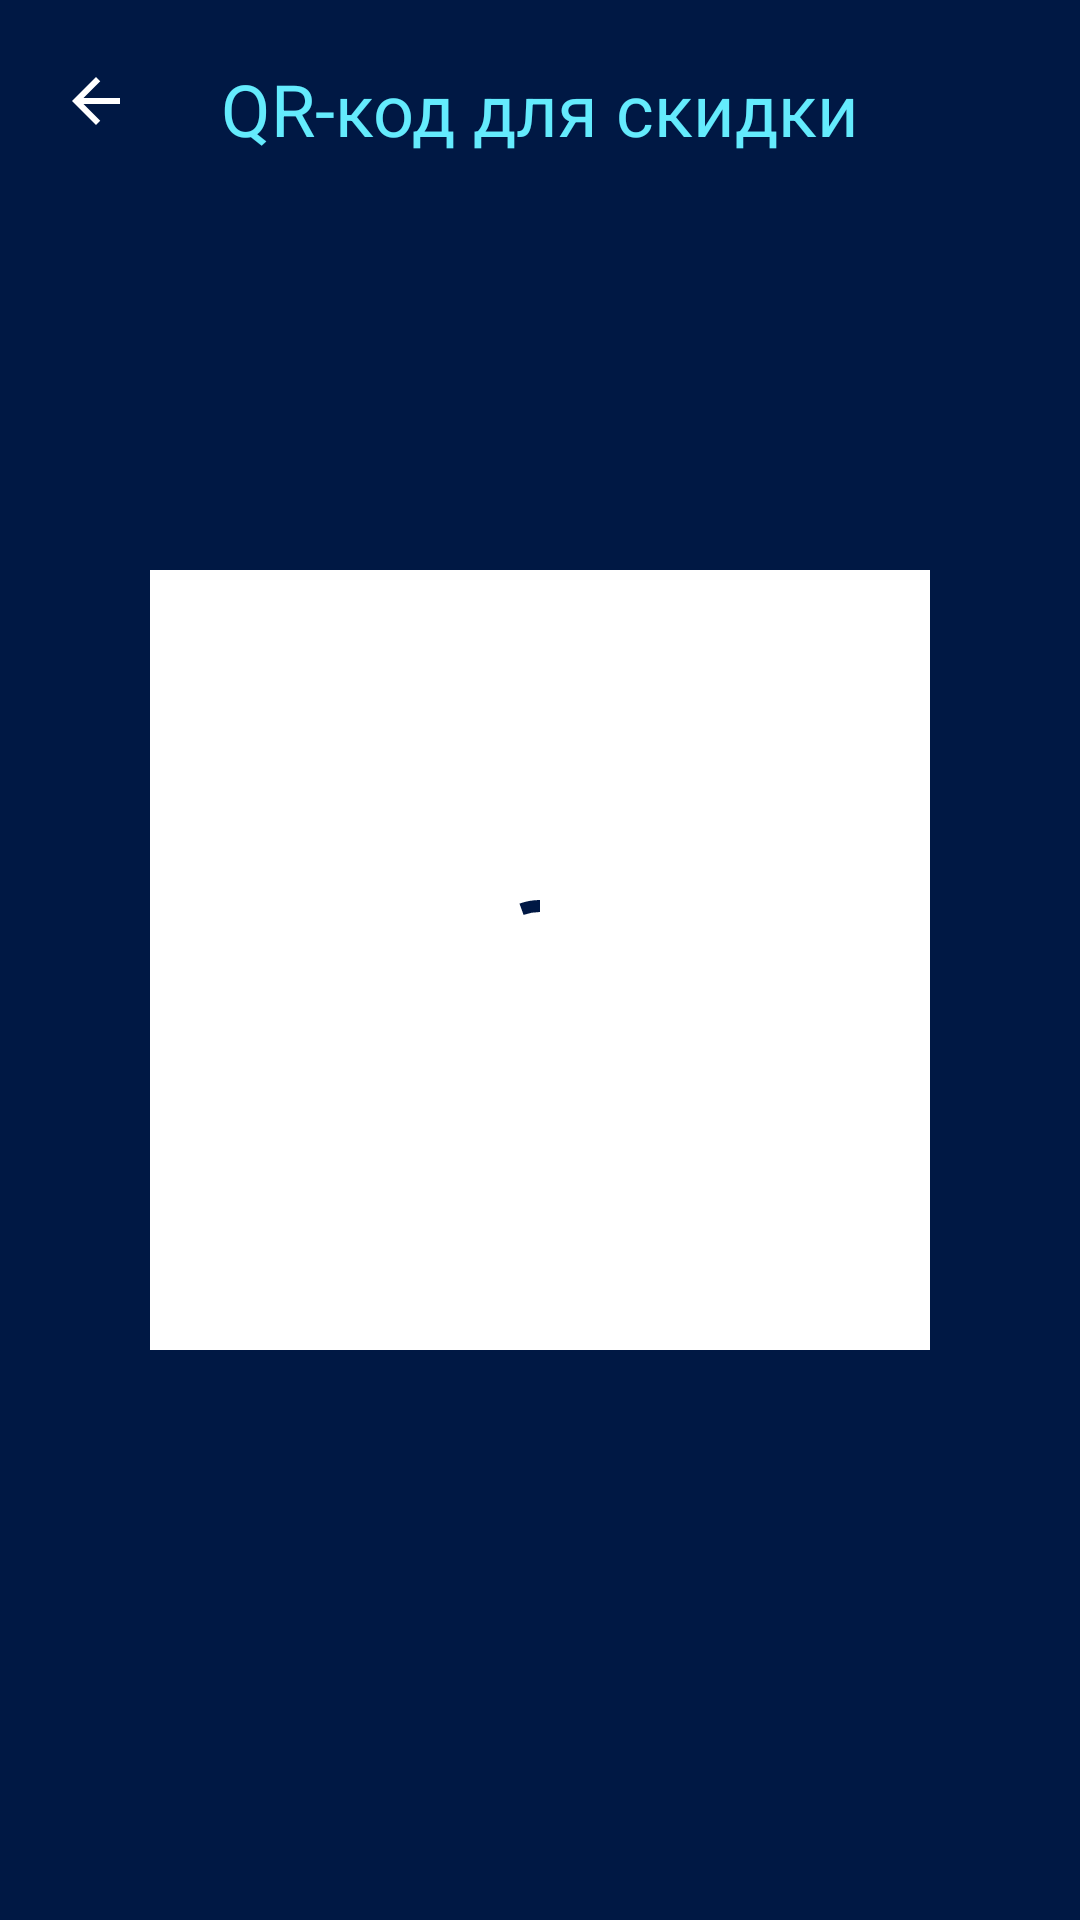

Icons on this 1080w x 1920h Android screen, each with its box as {"left": x1, "top": y1, "right": x2, "bottom": y2}:
back: {"left": 72, "top": 77, "right": 120, "bottom": 125}
